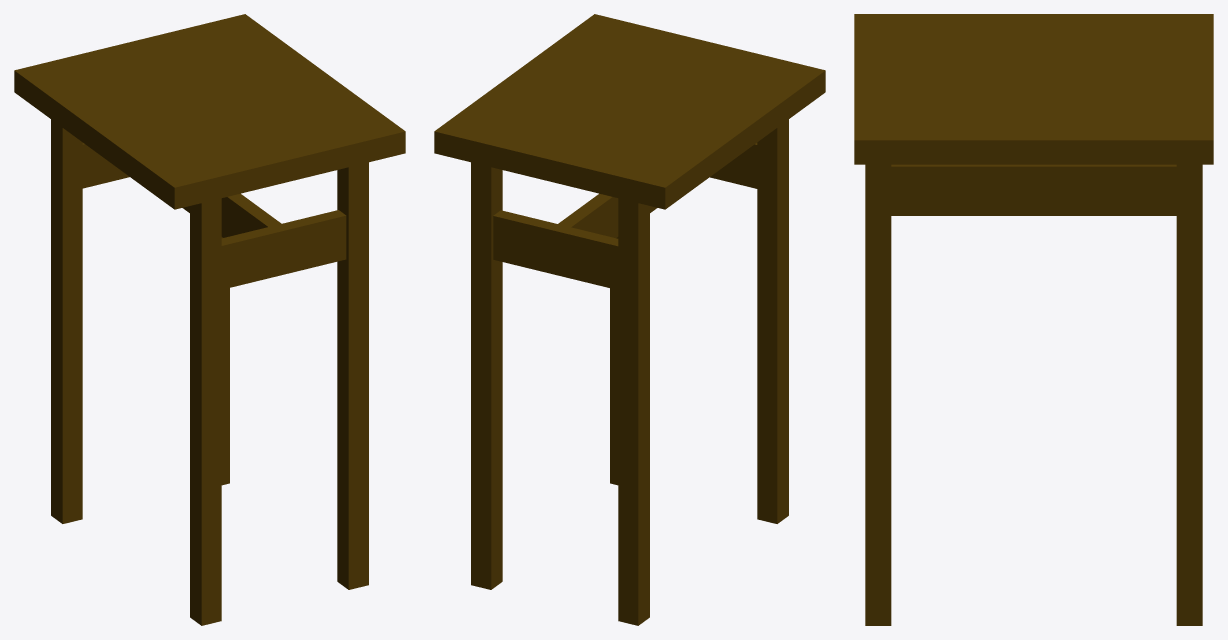
File: smallTable.fbx
3 renders of one model, left to right at view 1: azimuth 30°, elevation 25°; view 2: azimuth 150°, elevation 25°; view 3: azimuth 270°, elevation 25°, orthographic. The views are drawn at different scales.
Parts seen in each view (by area): view 1: board, leg_1, leg_2, leg_3, balk_3, leg_4, balk_2, blak_1; view 2: board, leg_3, leg_4, leg_1, blak_1, leg_2, balk_2, balk_3; view 3: board, balk_2, leg_2, leg_4.
Part boxes in pixels (bbox=[...]): board: bbox=[14, 14, 405, 209]; leg_1: bbox=[190, 198, 221, 625]; leg_2: bbox=[337, 162, 368, 589]; leg_3: bbox=[51, 119, 82, 523]; balk_3: bbox=[221, 210, 346, 289]; leg_4: bbox=[221, 237, 229, 485]; balk_2: bbox=[182, 193, 285, 237]; blak_1: bbox=[82, 143, 129, 188]; board: bbox=[434, 14, 825, 209]; leg_3: bbox=[618, 198, 649, 625]; leg_4: bbox=[471, 162, 502, 589]; leg_1: bbox=[757, 119, 788, 523]; blak_1: bbox=[493, 210, 618, 289]; leg_2: bbox=[610, 237, 618, 485]; balk_2: bbox=[555, 193, 657, 238]; balk_3: bbox=[710, 143, 757, 188]; board: bbox=[854, 14, 1213, 164]; balk_2: bbox=[891, 164, 1176, 215]; leg_2: bbox=[865, 164, 891, 625]; leg_4: bbox=[1176, 164, 1202, 625].
Size of the model in its own units: 46.63 by 86.69 by 56.07.
